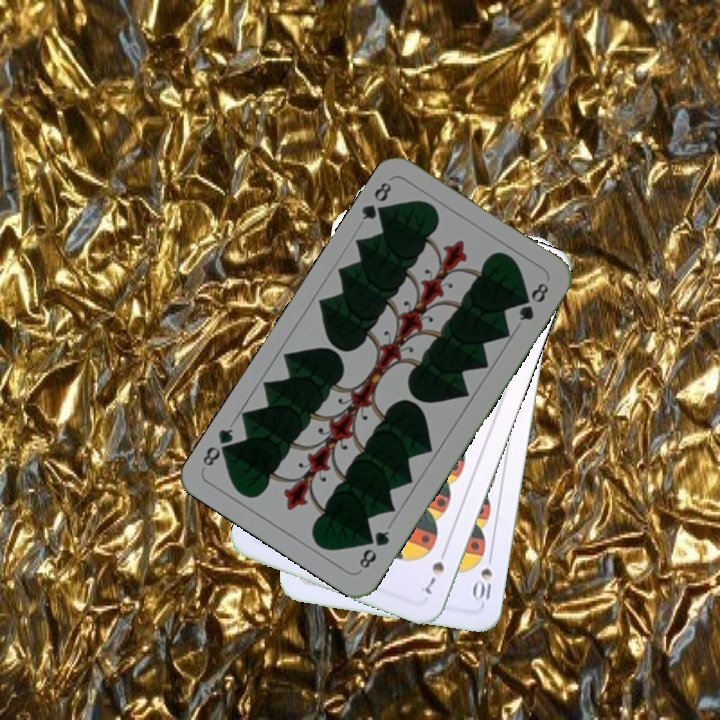G8: (355, 526, 393, 572), (357, 178, 394, 223)
S10: (470, 563, 495, 603)
S7: (421, 543, 450, 597)
